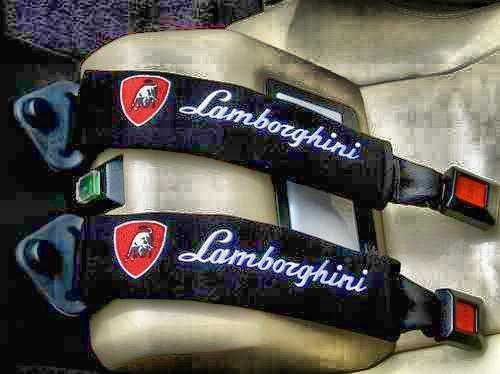seatbelt: (55, 71, 500, 219), (34, 215, 483, 355)
